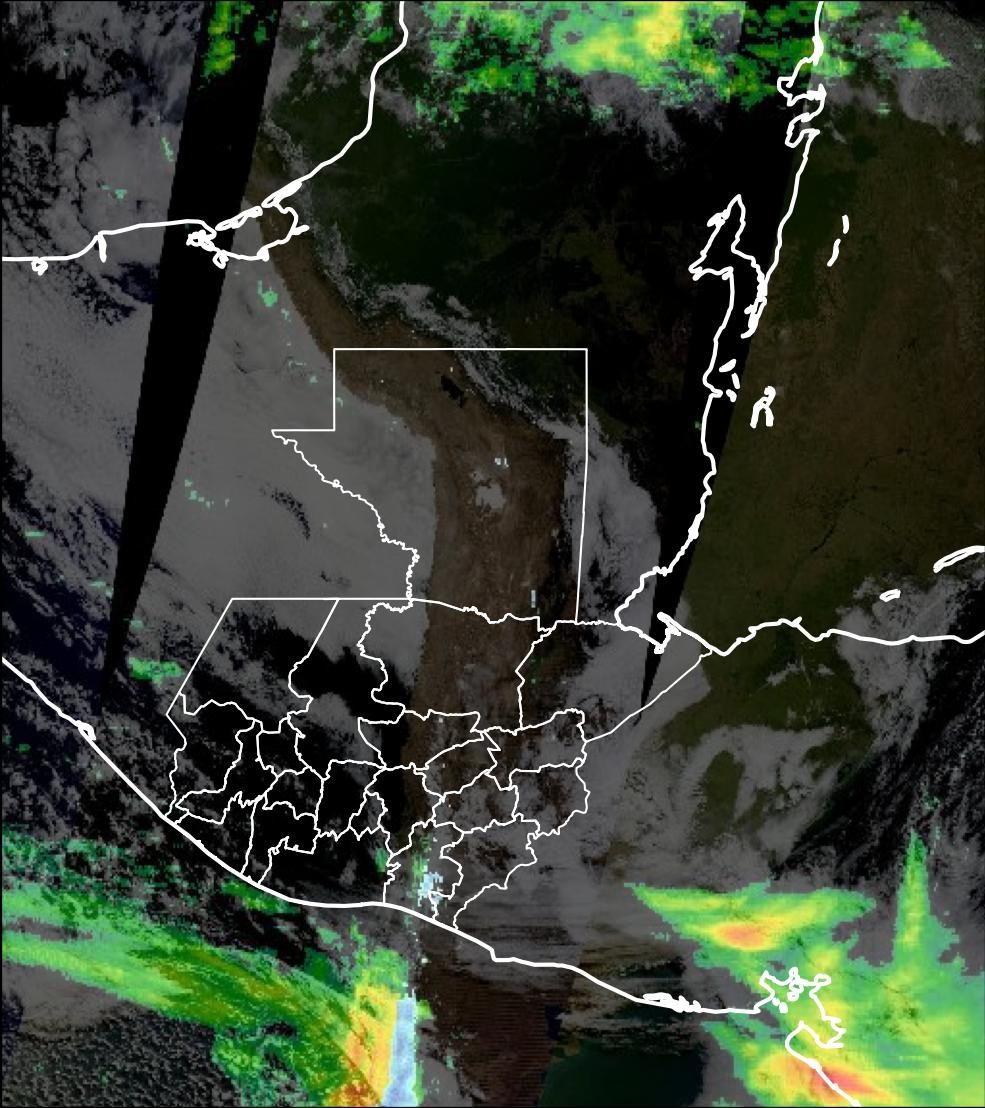precipitacion: (765, 1044, 908, 1108), (703, 903, 814, 967)
